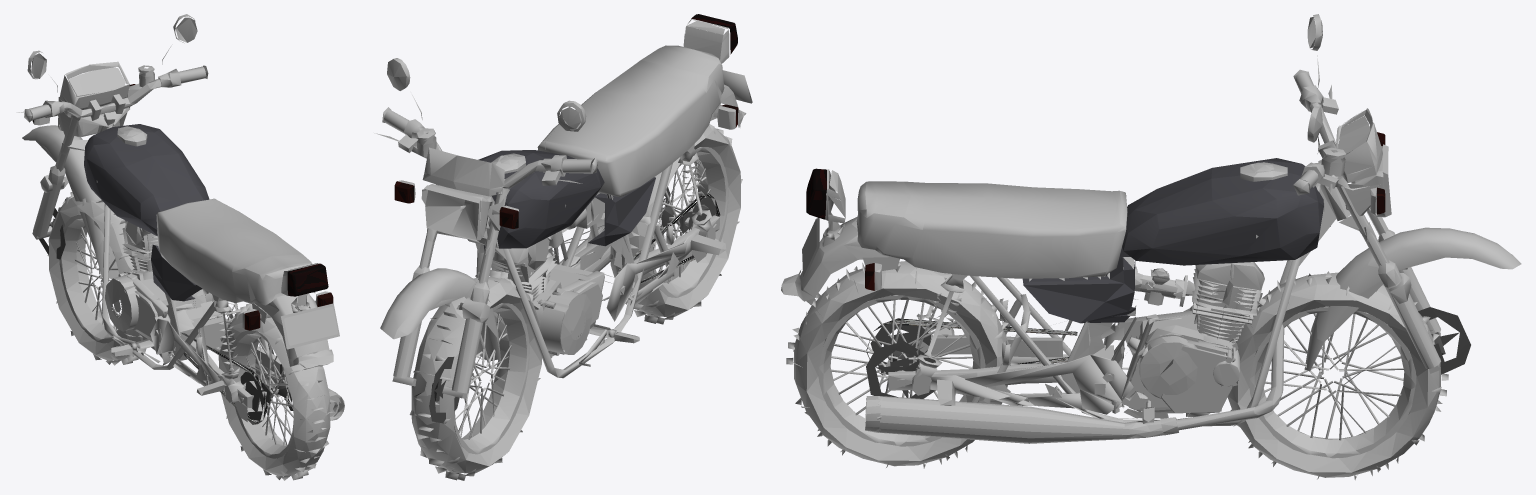
3 renders of one model, left to right at view 1: azimuth 30°, elevation 25°; view 2: azimuth 150°, elevation 25°; view 3: azimuth 270°, elevation 25°, orthographic. The views are drawn at different scales.
Parts seen in each view (by area): view 1: g10_mesh_vehiclegenericde, wheel_lr, g00_paint1_vehiclegenericsm, wheel_lf, g08_mesh_vehiclegenericde, g01_mesh_vehiclegenericde, g07_mesh_vehiclegenericde, g06_mesh_vehiclegenericde, g05_mesh_vehiclegenericde, g03_mesh_vehiclegenericde, g09_mesh_vehiclegenericde, g13_lightsemissive_pcjlightsglass (+5 smaller); view 2: g10_mesh_vehiclegenericde, wheel_lf, g08_mesh_vehiclegenericde, wheel_lr, g00_paint1_vehiclegenericsm, g01_mesh_vehiclegenericde, g07_mesh_vehiclegenericde, g06_mesh_vehiclegenericde, g05_mesh_vehiclegenericde, g03_mesh_vehiclegenericde, g09_mesh_vehiclegenericde, g04_mesh_vehiclegenericde (+4 smaller); view 3: g10_mesh_vehiclegenericde, g00_paint1_vehiclegenericsm, wheel_lf, wheel_lr, g09_mesh_vehiclegenericde, g08_mesh_vehiclegenericde, g01_mesh_vehiclegenericde, g03_mesh_vehiclegenericde, g06_mesh_vehiclegenericde, g07_mesh_vehiclegenericde, g04_mesh_vehiclegenericde, g11_tire_vehiclegenericty (+4 smaller).
Part boxes in pixels (<box>): g10_mesh_vehiclegenericde: <box>96,126,315,328</box>; wheel_lr: <box>218,303,331,480</box>; g00_paint1_vehiclegenericsm: <box>84,124,209,301</box>; wheel_lf: <box>47,192,146,365</box>; g08_mesh_vehiclegenericde: <box>16,17,197,279</box>; g01_mesh_vehiclegenericde: <box>97,123,329,395</box>; g07_mesh_vehiclegenericde: <box>55,61,244,402</box>; g06_mesh_vehiclegenericde: <box>122,220,339,421</box>; g05_mesh_vehiclegenericde: <box>105,221,208,361</box>; g03_mesh_vehiclegenericde: <box>114,272,272,391</box>; g09_mesh_vehiclegenericde: <box>24,14,344,420</box>; g13_lightsemissive_pcjlightsglass: <box>32,84,333,330</box>; g10_mesh_vehiclegenericde: <box>491,45,735,207</box>; wheel_lf: <box>409,270,541,480</box>; g08_mesh_vehiclegenericde: <box>374,107,593,398</box>; wheel_lr: <box>608,124,742,324</box>; g00_paint1_vehiclegenericsm: <box>467,150,655,250</box>; g01_mesh_vehiclegenericde: <box>475,20,739,378</box>; g07_mesh_vehiclegenericde: <box>419,143,715,283</box>; g06_mesh_vehiclegenericde: <box>490,70,752,324</box>; g05_mesh_vehiclegenericde: <box>524,238,602,354</box>; g03_mesh_vehiclegenericde: <box>542,224,698,360</box>; g09_mesh_vehiclegenericde: <box>382,58,610,280</box>; g04_mesh_vehiclegenericde: <box>489,271,604,358</box>; g10_mesh_vehiclegenericde: <box>856,162,1287,278</box>; g00_paint1_vehiclegenericsm: <box>1022,158,1330,323</box>; wheel_lf: <box>1227,271,1448,480</box>; wheel_lr: <box>786,261,1017,468</box>; g09_mesh_vehiclegenericde: <box>865,14,1346,443</box>; g08_mesh_vehiclegenericde: <box>1299,17,1521,373</box>; g01_mesh_vehiclegenericde: <box>799,170,1350,426</box>; g03_mesh_vehiclegenericde: <box>930,269,1239,423</box>; g06_mesh_vehiclegenericde: <box>802,171,1264,416</box>; g07_mesh_vehiclegenericde: <box>912,108,1389,395</box>; g04_mesh_vehiclegenericde: <box>1117,305,1237,413</box>; g11_tire_vehiclegenericty: <box>866,307,1470,398</box>.
Bounding box in the file's own units: 0.7532 × 1.31 × 2.11.
Materials: 7 (2 with a texture image).
